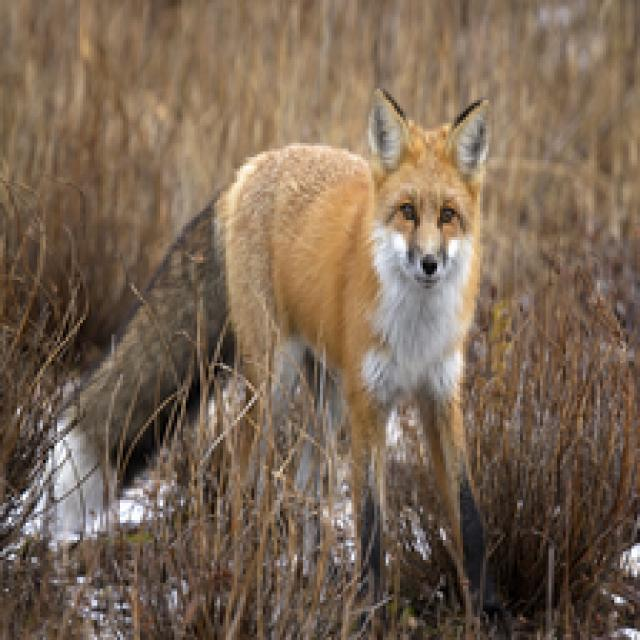fox: (61, 87, 507, 566)
